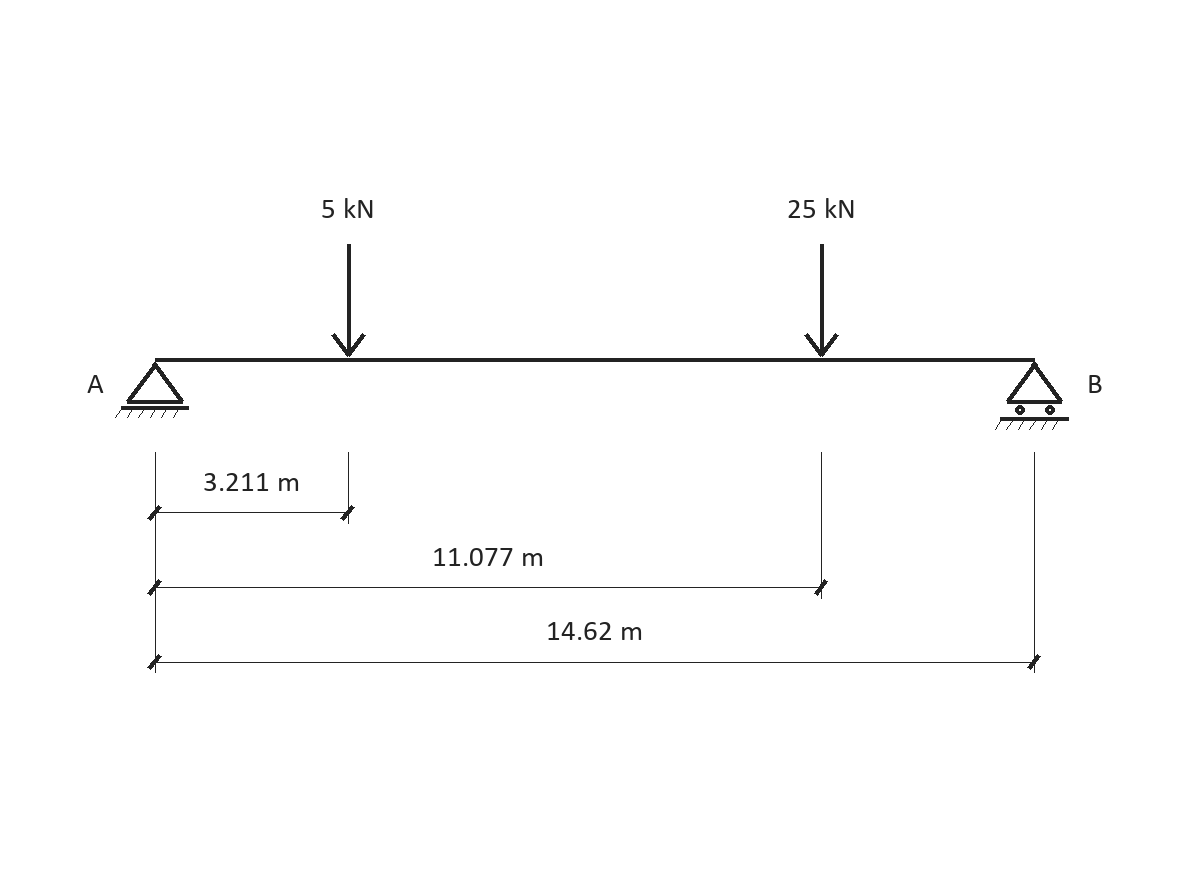pin_support: (115, 362, 189, 418)
point_load: (331, 244, 366, 357), (804, 244, 839, 357)
roller_support: (995, 362, 1069, 430)
